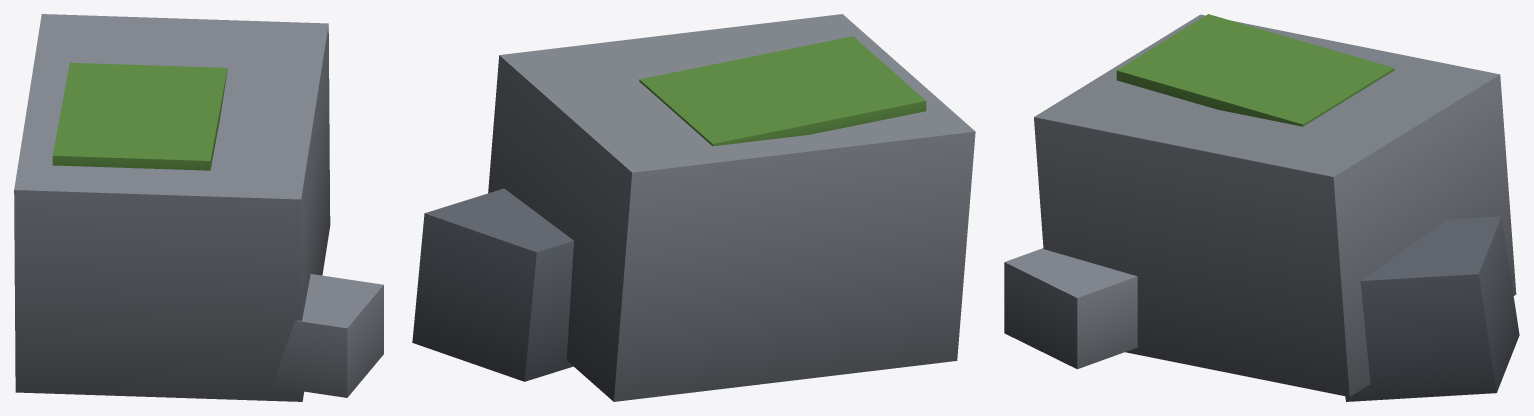
Rendered from C03_rock_large.glb.
3 renders of one model, left to right at view 1: azimuth 30°, elevation 25°; view 2: azimuth 150°, elevation 25°; view 3: azimuth 270°, elevation 25°, orthographic. The views are drawn at different scales.
Visible parts, largest first — view 1: C03_rock_large; view 2: C03_rock_large; view 3: C03_rock_large.
Part boxes in pixels (left/top/right/bottom): C03_rock_large: left=14, top=14, right=383, bottom=401; C03_rock_large: left=412, top=14, right=975, bottom=401; C03_rock_large: left=1004, top=14, right=1519, bottom=401.
Bounding box in the file's own units: 2.95 × 1.72 × 3.31.
